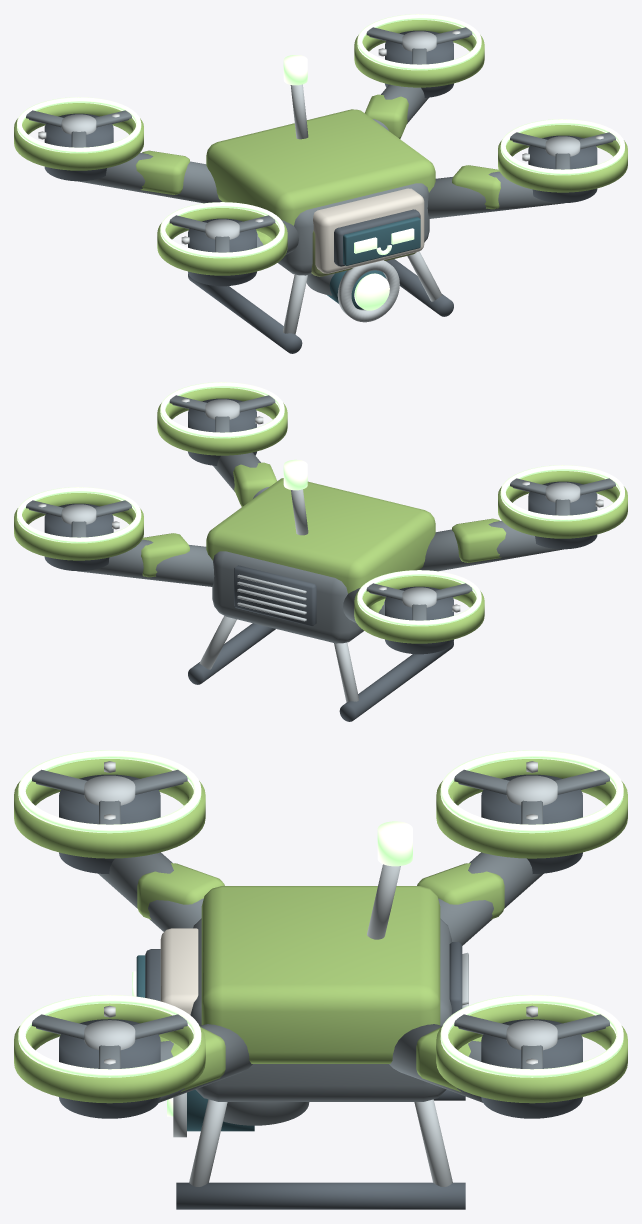
File: scout_ultra.glb
3 views of the same model, one above another, from view 1: azimuth 30°, elevation 25°; view 2: azimuth 150°, elevation 25°; view 3: azimuth 270°, elevation 25° (orthographic). The views are drawn at different scales.
Parts seen in each view (by area): view 1: Armor_lime, RotorGuard_lime, RotorLED_glowgreen, Boom_frame, Motor_black, BoomArmor_lime, RotorBlade_frame, HeadArmor_cream, Skid_black, Rotor_steel, Core_frame, FaceGlass_glass (+8 smaller); view 2: Armor_lime, RotorGuard_lime, RotorLED_glowgreen, Boom_frame, Motor_black, Core_frame, BoomArmor_lime, RotorBlade_frame, Skid_black, Cooling_black, Rotor_steel, LandingGear_steel (+3 smaller); view 3: Armor_lime, RotorGuard_lime, RotorLED_glowgreen, Motor_black, Boom_frame, Core_frame, RotorBlade_frame, Skid_black, BoomArmor_lime, Rotor_steel, LandingGear_steel, HeadArmor_cream (+7 smaller).
Boxes of the visible parts, <box> form: Armor_lime: <box>206,109,435,225</box>; RotorGuard_lime: <box>14,20,627,275</box>; RotorLED_glowgreen: <box>17,14,624,258</box>; Boom_frame: <box>78,84,563,254</box>; Motor_black: <box>44,30,597,286</box>; BoomArmor_lime: <box>135,94,500,244</box>; RotorBlade_frame: <box>26,27,615,252</box>; HeadArmor_cream: <box>313,188,424,273</box>; Skid_black: <box>188,259,453,353</box>; Rotor_steel: <box>61,31,580,239</box>; Core_frame: <box>278,183,429,275</box>; FaceGlass_glass: <box>343,217,420,265</box>; Armor_lime: <box>206,478,435,593</box>; RotorGuard_lime: <box>14,388,627,643</box>; RotorLED_glowgreen: <box>17,382,624,626</box>; Boom_frame: <box>78,452,563,622</box>; Motor_black: <box>44,398,597,654</box>; Core_frame: <box>212,551,363,643</box>; BoomArmor_lime: <box>141,462,506,612</box>; RotorBlade_frame: <box>26,395,615,620</box>; Skid_black: <box>188,623,453,721</box>; Cooling_black: <box>234,565,316,626</box>; Rotor_steel: <box>61,399,580,607</box>; LandingGear_steel: <box>199,616,358,702</box>; Armor_lime: <box>201,886,440,1063</box>; RotorGuard_lime: <box>14,759,627,1103</box>; RotorLED_glowgreen: <box>18,750,623,1077</box>; Motor_black: <box>59,774,582,1118</box>; Boom_frame: <box>98,852,543,1102</box>; Core_frame: <box>190,918,451,1101</box>; RotorBlade_frame: <box>31,769,610,1069</box>; Skid_black: <box>176,1089,465,1209</box>; BoomArmor_lime: <box>137,863,504,1092</box>; Rotor_steel: <box>84,775,557,1050</box>; LandingGear_steel: <box>189,1099,452,1186</box>; HeadArmor_cream: <box>160,928,198,1014</box>.
Bounding box in the file's own units: 1.97 × 0.9175 × 1.57.
